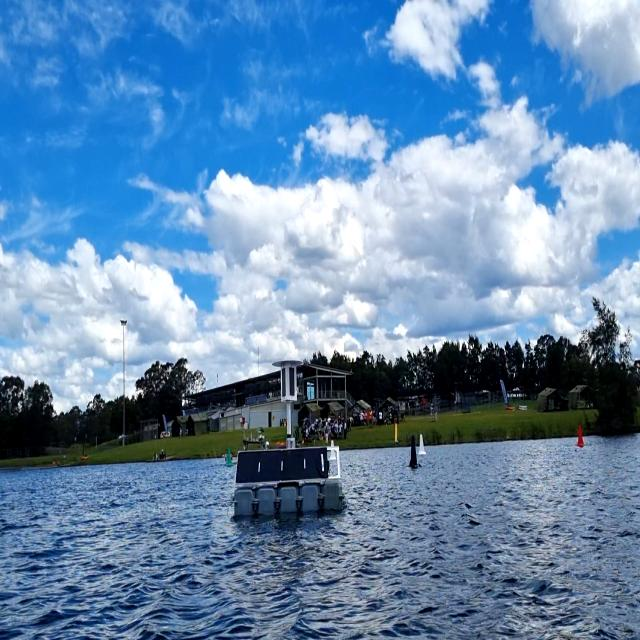led: (286, 365, 296, 398), (281, 367, 287, 397)
